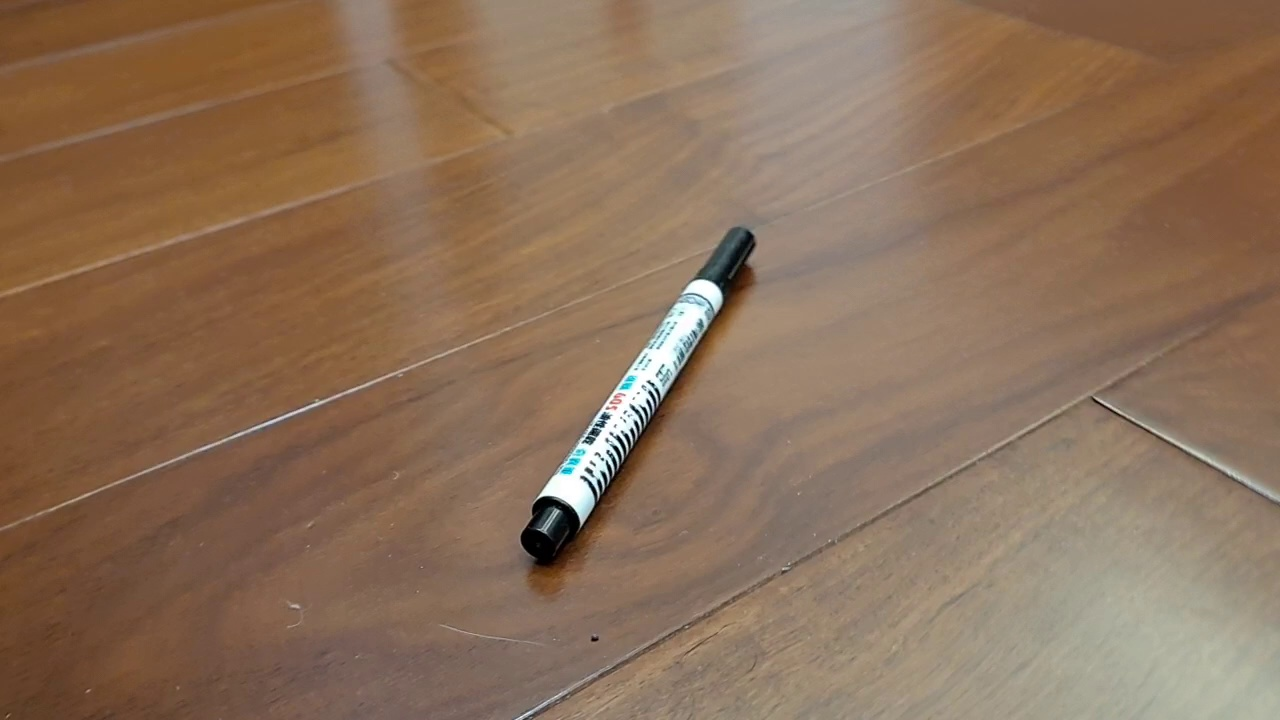pen: (520, 226, 757, 563)
